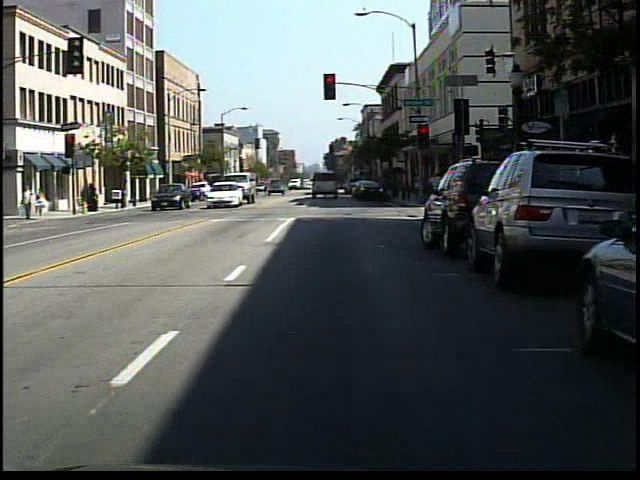person: (19, 182, 37, 224), (35, 186, 52, 220)
